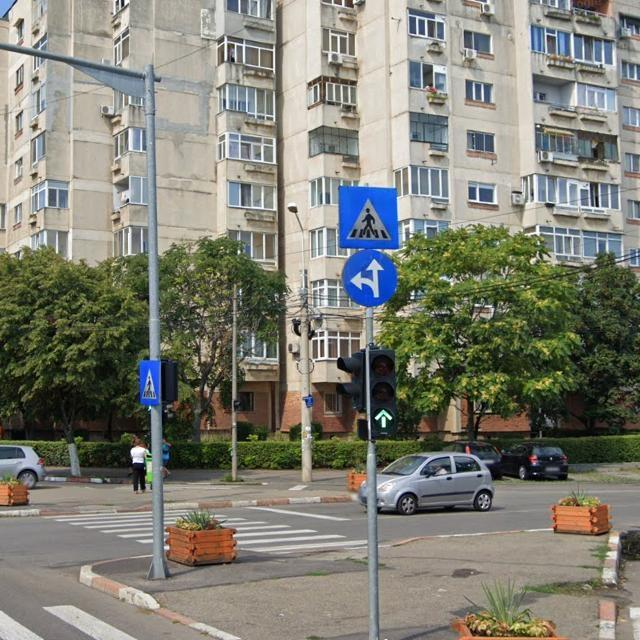info_crosswalk: (335, 182, 403, 249), (137, 360, 165, 409)
